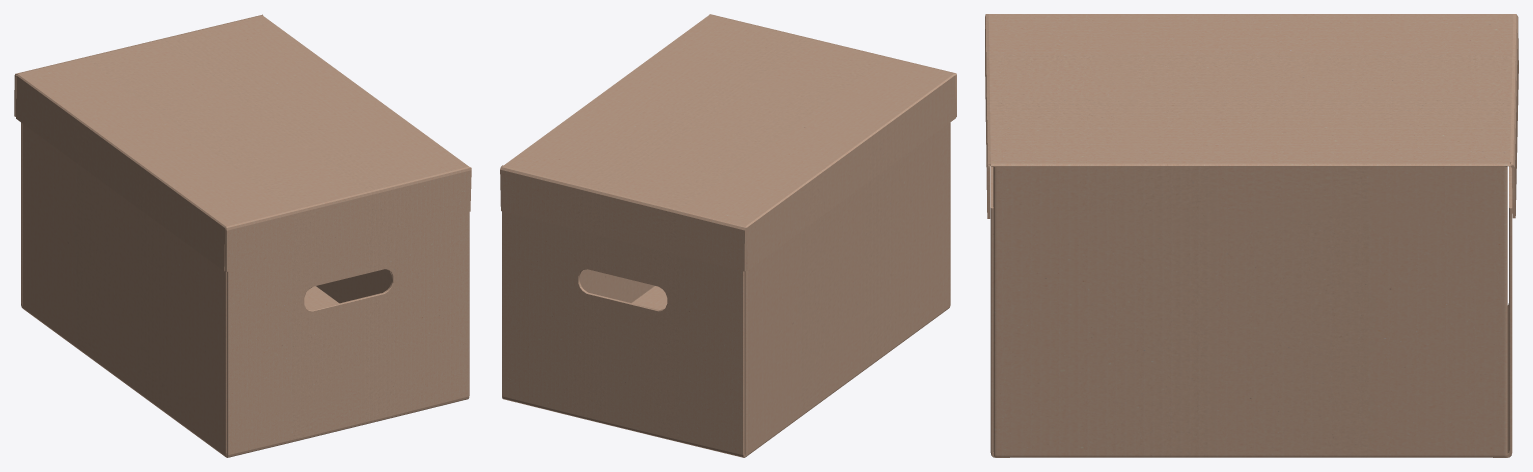
3 views of the same model, side by side, from view 1: azimuth 30°, elevation 25°; view 2: azimuth 150°, elevation 25°; view 3: azimuth 270°, elevation 25° (orthographic). The views are drawn at different scales.
Visible parts, largest first — view 1: Box 1; view 2: Box 1; view 3: Box 1.
Part boxes in pixels (box(x1,y1,x2,y2)): Box 1: box(14, 14, 471, 457); Box 1: box(500, 14, 956, 457); Box 1: box(985, 14, 1518, 457).
Bounding box in the file's own units: 25.05 × 22.8 × 37.31.
1 material, 1 textured.
